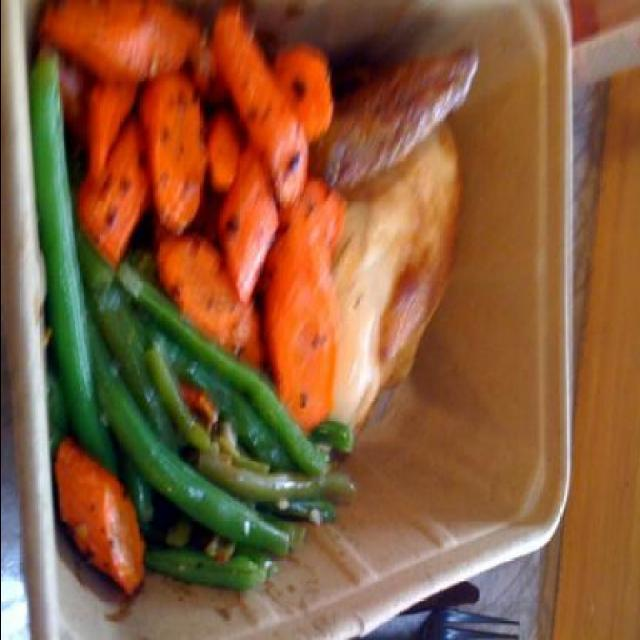Carrot: (76, 6, 342, 437), (34, 0, 210, 82), (56, 442, 144, 590)
